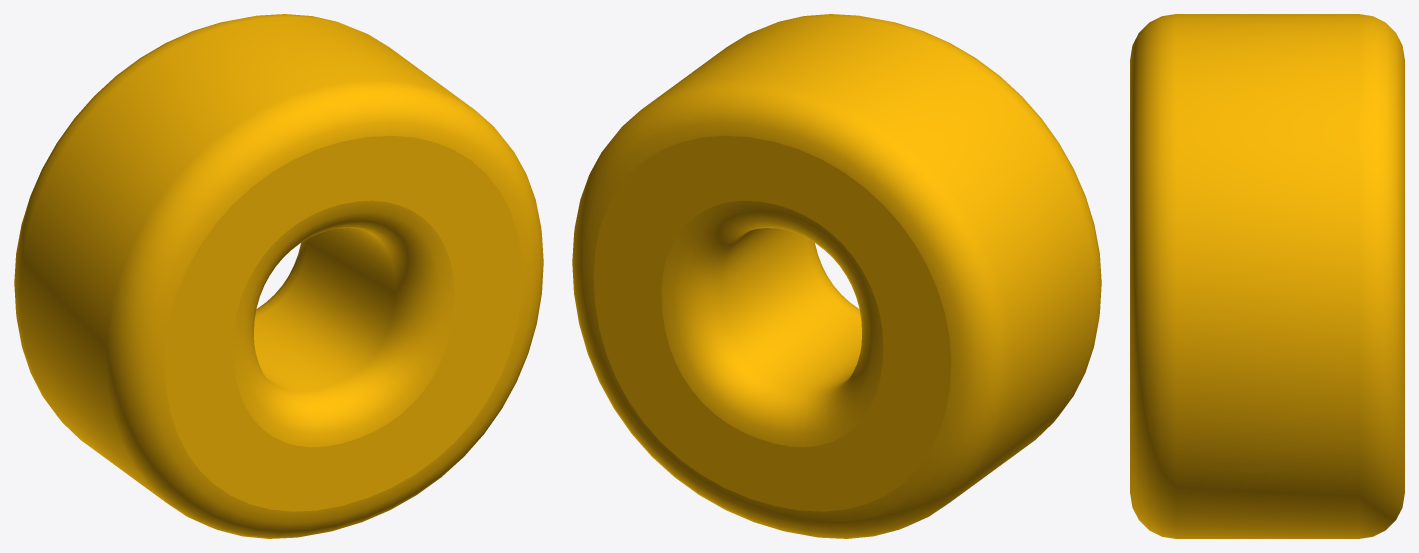
3 renders of one model, left to right at view 1: azimuth 30°, elevation 25°; view 2: azimuth 150°, elevation 25°; view 3: azimuth 270°, elevation 25°, orthographic. The views are drawn at different scales.
Visible parts, largest first — view 1: Text.001; view 2: Text.001; view 3: Text.001.
Part boxes in pixels (x1,y1,x2,y2): Text.001: (14, 14, 543, 538); Text.001: (572, 14, 1101, 538); Text.001: (1130, 14, 1404, 538).
Size of the model in its own units: 1.74 by 1.7 by 0.9.
